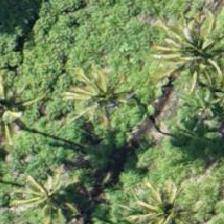coconut_tree: (45, 52, 135, 142), (0, 141, 87, 223), (117, 170, 207, 223)
